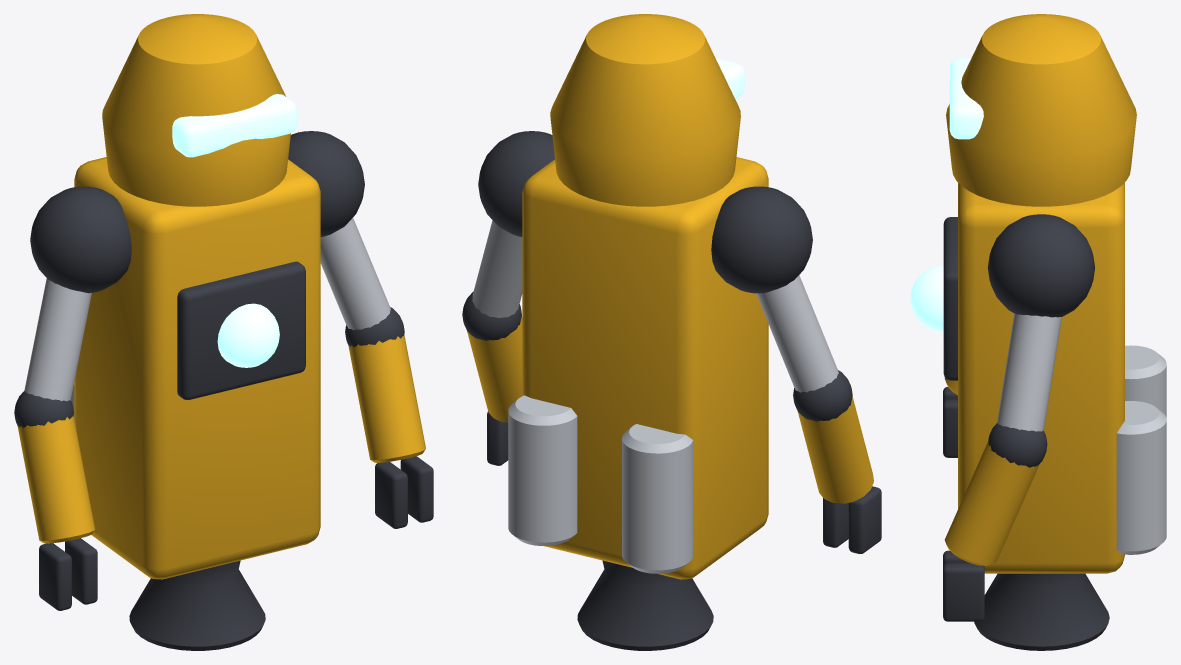
The model's file is Rocket_20_MechRocket.fbx.
The picture shows the model from 3 angles, left to right: view 1: azimuth 30°, elevation 25°; view 2: azimuth 150°, elevation 25°; view 3: azimuth 270°, elevation 25°; orthographic projection.
Parts seen in each view (by area): view 1: R20_Torso, R20_Head, R20_Chest, R20_Nozzle, R20_Shoulder_2, R20_Forearm_2, R20_Forearm, R20_UpperArm_2, R20_Shoulder, R20_UpperArm, R20_Visor, R20_Core (+6 smaller); view 2: R20_Torso, R20_Head, R20_Jet_2, R20_Jet, R20_Nozzle, R20_Shoulder_2, R20_UpperArm_2, R20_Forearm_2, R20_Shoulder, R20_UpperArm, R20_Forearm, R20_Elbow_2 (+5 smaller); view 3: R20_Torso, R20_Head, R20_Shoulder, R20_Nozzle, R20_Jet, R20_Forearm, R20_UpperArm, R20_Claw_2, R20_Chest, R20_Jet_2, R20_Visor, R20_Elbow (+2 smaller).
Part boxes in pixels (x1,y1,x2,y2): R20_Torso: [74, 157, 320, 579]; R20_Head: [102, 14, 290, 206]; R20_Chest: [177, 261, 305, 399]; R20_Nozzle: [129, 560, 265, 650]; R20_Shoulder_2: [30, 186, 131, 293]; R20_Forearm_2: [17, 416, 95, 543]; R20_Forearm: [348, 335, 425, 462]; R20_UpperArm_2: [24, 278, 91, 401]; R20_Shoulder: [288, 131, 364, 236]; R20_UpperArm: [320, 218, 390, 330]; R20_Visor: [172, 94, 296, 157]; R20_Core: [217, 303, 279, 367]; R20_Torso: [522, 157, 768, 579]; R20_Head: [550, 14, 740, 206]; R20_Jet_2: [622, 424, 693, 573]; R20_Jet: [508, 395, 577, 545]; R20_Nozzle: [577, 560, 713, 650]; R20_Shoulder_2: [711, 186, 812, 293]; R20_UpperArm_2: [756, 275, 838, 392]; R20_Forearm_2: [797, 397, 873, 503]; R20_Shoulder: [478, 131, 554, 236]; R20_UpperArm: [472, 220, 522, 317]; R20_Forearm: [467, 316, 522, 422]; R20_Elbow_2: [793, 370, 852, 421]; R20_Torso: [958, 183, 1124, 573]; R20_Head: [946, 14, 1136, 206]; R20_Shoulder: [987, 214, 1094, 317]; R20_Nozzle: [974, 573, 1109, 650]; R20_Jet: [1116, 401, 1166, 554]; R20_Forearm: [944, 441, 1039, 565]; R20_UpperArm: [997, 313, 1061, 431]; R20_Claw_2: [943, 563, 984, 621]; R20_Chest: [943, 217, 957, 380]; R20_Jet_2: [1125, 345, 1166, 417]; R20_Visor: [949, 58, 983, 139]; R20_Elbow: [988, 423, 1047, 467].
Size of the model in its own units: 3.7 by 5.6 by 2.15.
